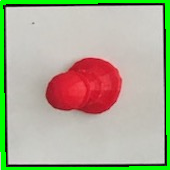Red Pawn: (42, 55, 123, 119)
